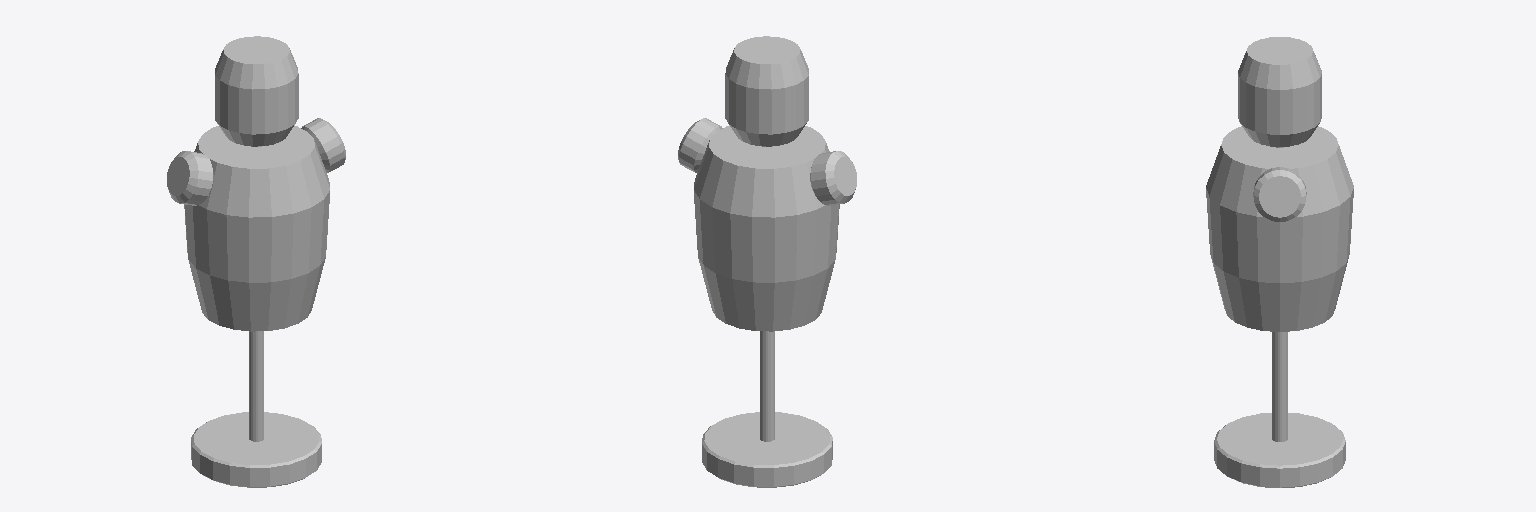
Rendered from TrainingDummy.obj.
3 views of the same model, side by side, from view 1: azimuth 30°, elevation 25°; view 2: azimuth 150°, elevation 25°; view 3: azimuth 270°, elevation 25° (orthographic).
Visible parts, largest first — view 1: TrainingDummy; view 2: TrainingDummy; view 3: TrainingDummy.
Boxes of the visible parts, box(x1,y1,x2,y2) form: TrainingDummy: box(167, 36, 345, 487); TrainingDummy: box(678, 36, 856, 487); TrainingDummy: box(1206, 37, 1353, 487).
Bounding box in the file's own units: 0.7144 × 1.67 × 0.5483.